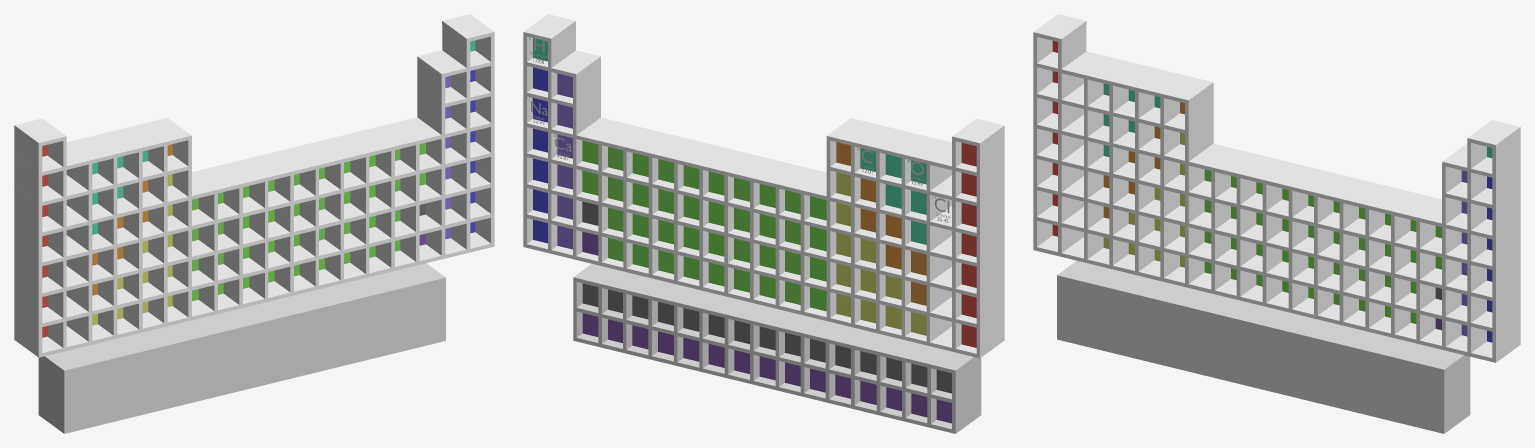
Rendered from TablaPeriodica.fbx.
The picture shows the model from 3 angles, left to right: view 1: azimuth 30°, elevation 25°; view 2: azimuth 150°, elevation 25°; view 3: azimuth 330°, elevation 25°; orthographic projection.
Visible parts, largest first — view 1: Table Border 1, Back Board 2, Table Border 2, Green, Beige, Orange, Red; view 2: Table Border 1, Table Border 2, Green, Violet, Gray, Beige, Orange, Red, Lavender, Turquoise, Blue; view 3: Table Border 1, Back Board 2, Table Border 2, Green, Beige, Orange, Lavender, Red, Turquoise.
Boxes of the visible parts, x1,y1,x2,y2 form: Table Border 1: [14, 14, 494, 357]; Back Board 2: [63, 276, 445, 433]; Table Border 2: [38, 263, 443, 432]; Green: [192, 143, 425, 301]; Beige: [92, 174, 172, 325]; Orange: [92, 144, 172, 295]; Red: [42, 144, 47, 337]; Table Border 1: [523, 14, 1004, 358]; Table Border 2: [573, 264, 979, 433]; Green: [582, 140, 826, 311]; Violet: [582, 313, 951, 423]; Gray: [582, 283, 951, 393]; Beige: [836, 172, 926, 335]; Orange: [836, 142, 926, 305]; Red: [961, 143, 976, 347]; Lavender: [557, 73, 572, 249]; Turquoise: [860, 148, 926, 244]; Blue: [533, 67, 547, 243]; Table Border 1: [1033, 14, 1520, 362]; Back Board 2: [1057, 274, 1445, 433]; Table Border 2: [1059, 261, 1470, 432]; Green: [1204, 169, 1441, 323]; Beige: [1103, 132, 1184, 267]; Orange: [1103, 102, 1184, 218]; Lavender: [1461, 170, 1467, 336]; Red: [1052, 41, 1057, 236]; Turquoise: [1103, 83, 1160, 156].
Size of the model in its own units: 431 by 267 by 41.91.
